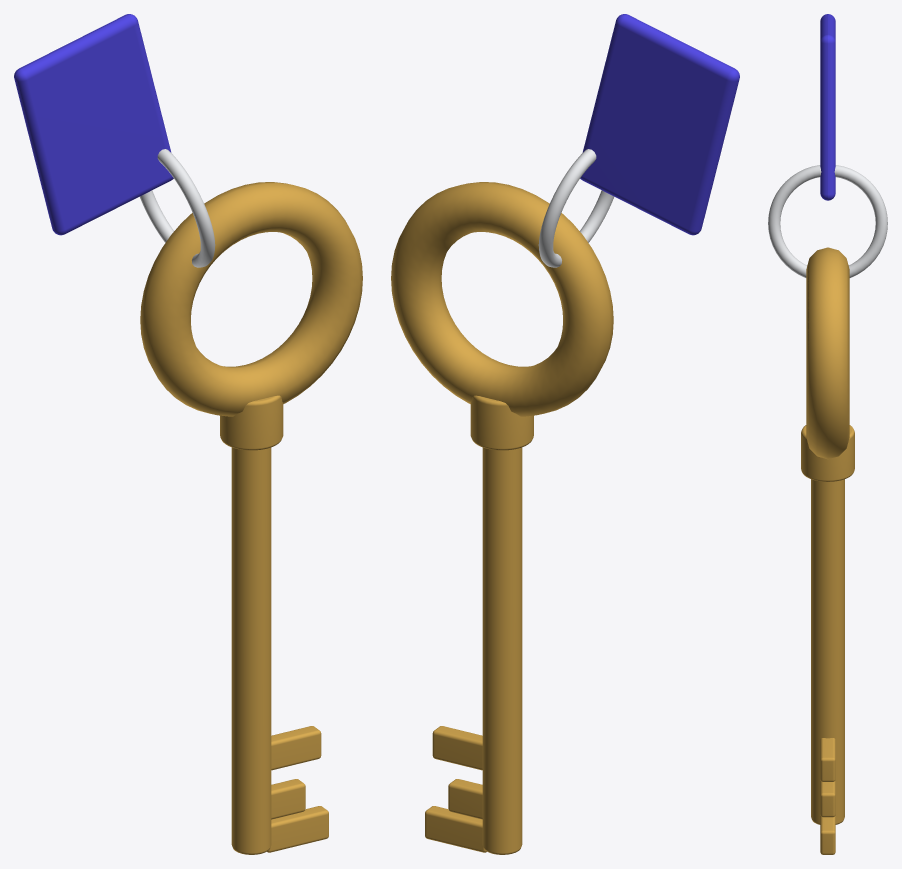
Rendered from hero-key.glb.
3 views of the same model, side by side, from view 1: azimuth 30°, elevation 25°; view 2: azimuth 150°, elevation 25°; view 3: azimuth 270°, elevation 25° (orthographic). The views are drawn at different scales.
Visible parts, largest first — view 1: Bow, Tag, Blade, Collar, Ring, Bit.002, Bit, Bit.001; view 2: Bow, Tag, Blade, Collar, Ring, Bit.002, Bit, Bit.001; view 3: Blade, Bow, Ring, Tag, Collar, Bit, Bit.002, Bit.001.
Part boxes in pixels (x1,y1,x2,y2): Bow: [140, 182, 362, 416]; Tag: [14, 14, 173, 235]; Blade: [231, 447, 271, 854]; Collar: [220, 395, 283, 450]; Ring: [140, 149, 215, 267]; Bit.002: [267, 806, 328, 852]; Bit: [271, 726, 321, 770]; Bit.001: [271, 779, 305, 819]; Bow: [391, 182, 613, 416]; Tag: [580, 14, 739, 235]; Blade: [482, 447, 522, 854]; Collar: [470, 395, 533, 450]; Ring: [538, 149, 613, 267]; Bit.002: [425, 806, 486, 852]; Bit: [432, 726, 482, 770]; Bit.001: [448, 779, 482, 819]; Blade: [811, 479, 844, 824]; Bow: [806, 247, 849, 459]; Ring: [768, 165, 887, 277]; Tag: [820, 14, 835, 200]; Collar: [801, 425, 854, 481]; Bit: [820, 738, 835, 781]; Bit.002: [820, 815, 835, 854]; Bit.001: [820, 781, 835, 817].
Size of the model in its own units: 0.4401 by 1.06 by 0.156.
